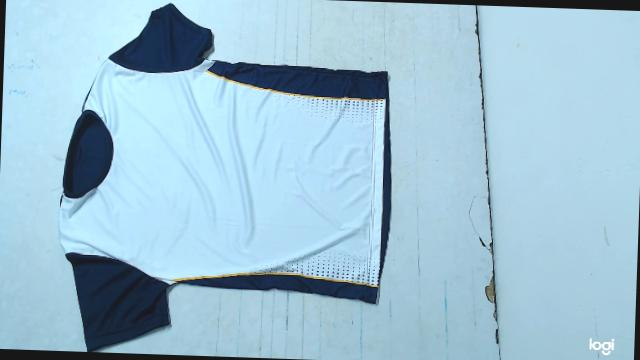new-garment: (59, 4, 390, 351)
